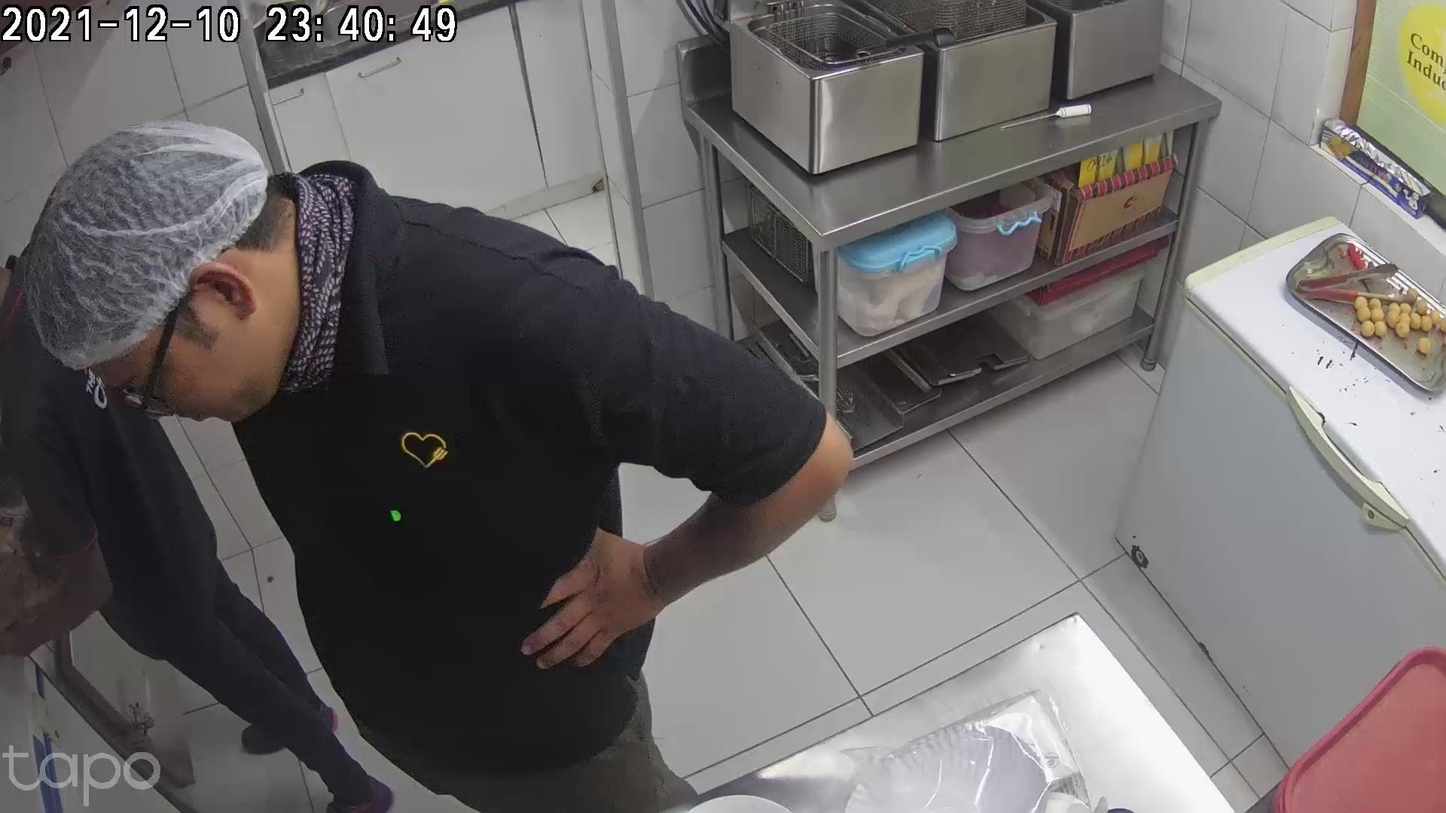no_gloves: (527, 535, 701, 669)
